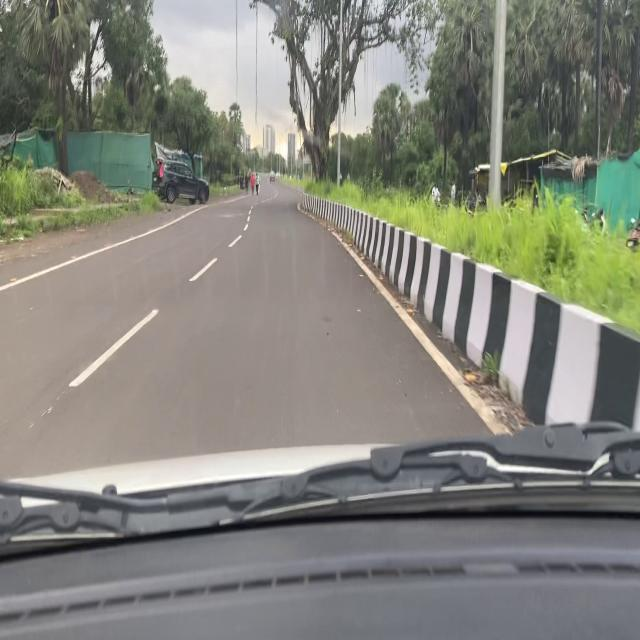lane: (299, 192, 508, 427), (61, 214, 275, 394), (1, 190, 244, 296)
